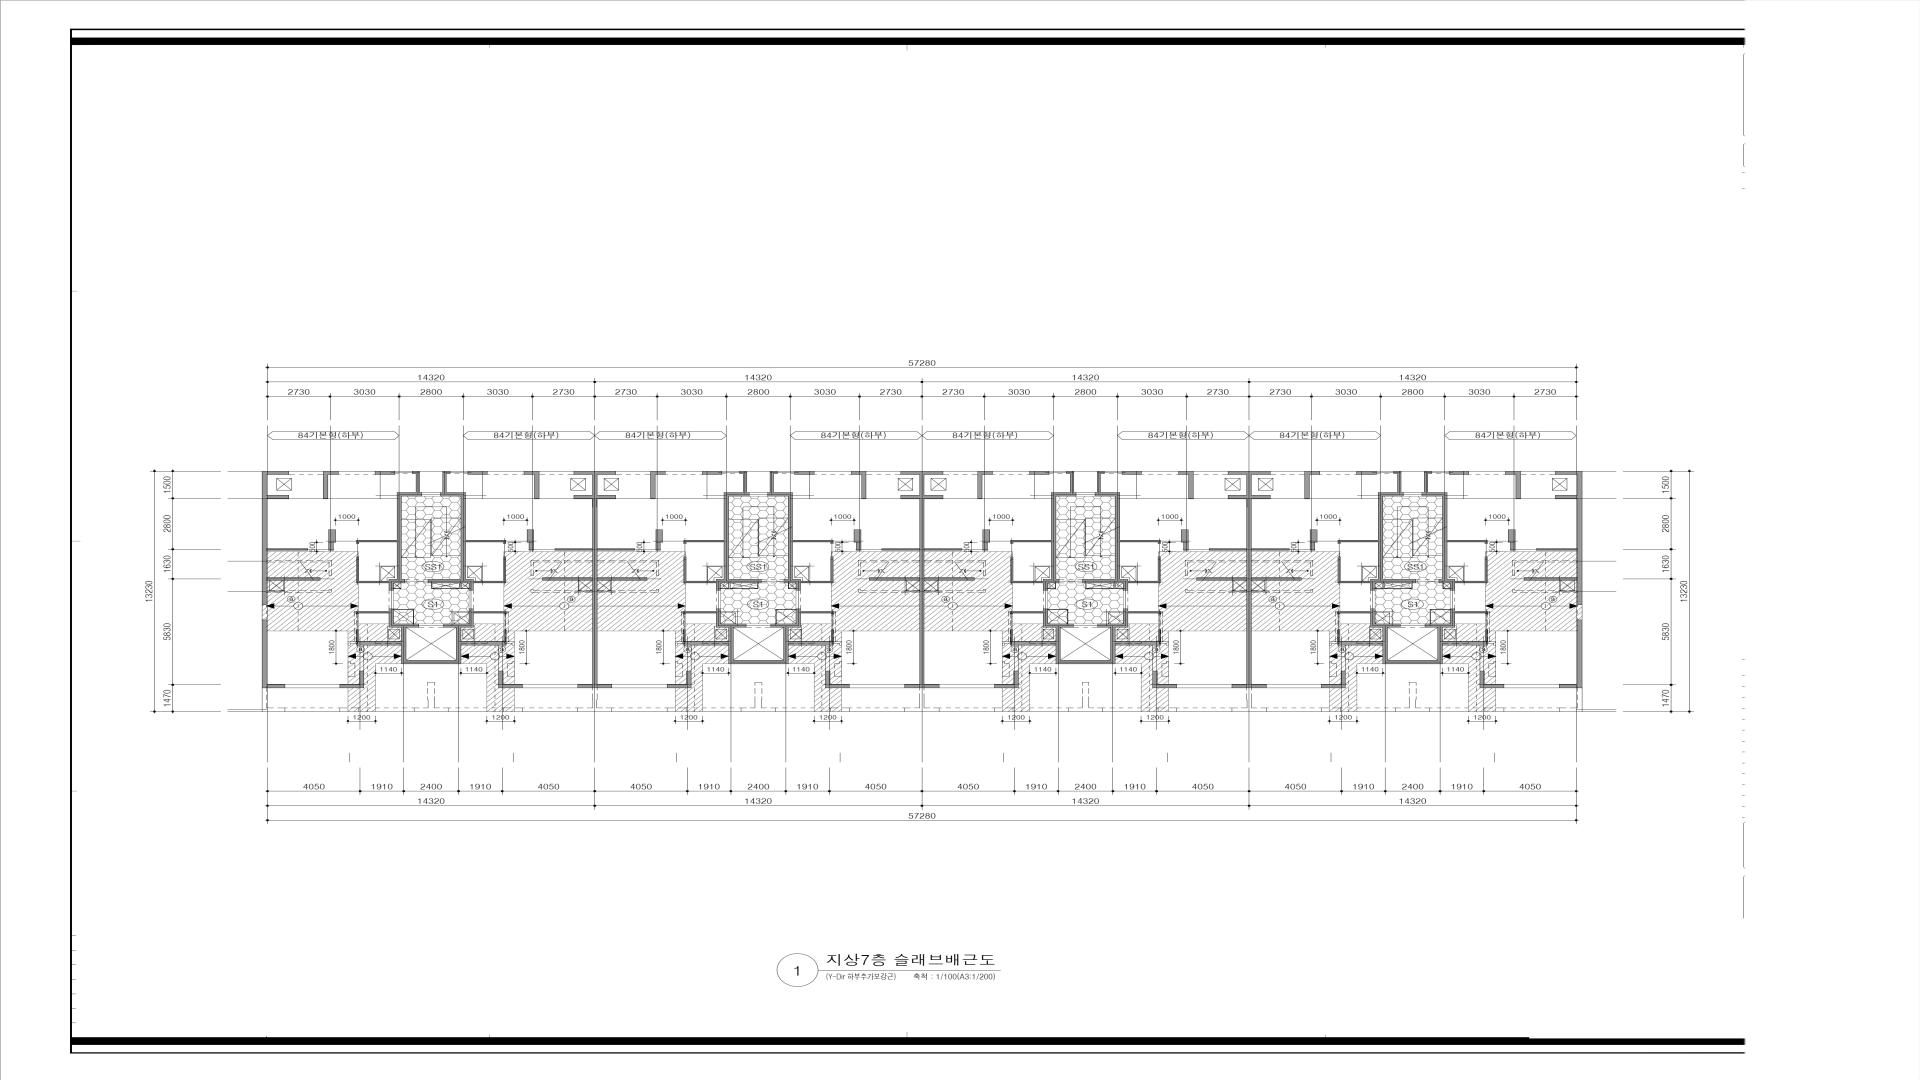wall: (1246, 475, 1251, 688), (919, 475, 924, 688), (592, 475, 597, 684), (261, 471, 266, 605), (1443, 492, 1448, 579), (1577, 475, 1582, 562), (397, 496, 402, 583), (460, 492, 465, 579), (724, 496, 729, 579), (1051, 496, 1056, 579), (1378, 496, 1383, 579), (1577, 620, 1582, 688), (1116, 496, 1120, 583), (789, 496, 793, 579), (1382, 659, 1443, 665), (262, 620, 266, 688), (1060, 659, 1110, 665), (1577, 562, 1582, 605), (465, 539, 506, 545), (356, 539, 397, 545), (733, 661, 783, 665), (406, 661, 456, 665), (728, 628, 733, 665), (783, 628, 789, 665), (1055, 628, 1060, 665), (1110, 628, 1116, 665), (401, 628, 406, 665), (456, 628, 462, 665), (1370, 579, 1416, 583), (1010, 641, 1056, 645), (716, 579, 761, 583), (356, 641, 401, 645), (462, 641, 506, 645), (683, 641, 728, 645), (789, 641, 833, 645), (1116, 641, 1160, 645), (1337, 641, 1382, 645), (1443, 641, 1487, 645), (1437, 628, 1443, 661), (1228, 471, 1271, 475), (574, 471, 616, 475), (740, 471, 748, 492), (770, 471, 778, 492), (901, 471, 943, 475), (1065, 471, 1073, 492), (1097, 471, 1105, 492), (1382, 628, 1387, 659), (427, 579, 469, 583), (683, 539, 724, 543), (793, 539, 833, 543), (1010, 539, 1051, 543), (1120, 539, 1160, 543), (1337, 539, 1378, 543), (1448, 539, 1487, 543), (1188, 471, 1193, 500), (861, 471, 866, 498), (266, 578, 320, 580), (1524, 578, 1577, 580), (443, 471, 450, 492), (578, 684, 612, 688), (1515, 475, 1520, 500), (650, 475, 655, 500), (977, 475, 982, 500), (534, 475, 539, 500), (542, 578, 592, 580), (597, 578, 647, 580), (869, 578, 919, 580), (924, 578, 975, 580), (1196, 578, 1246, 580), (1251, 578, 1302, 580), (1083, 579, 1116, 583), (356, 611, 389, 615), (473, 611, 506, 615), (683, 611, 716, 615), (1010, 611, 1043, 615), (1337, 611, 1370, 615), (1455, 611, 1487, 615), (1097, 624, 1129, 628), (1304, 475, 1309, 498), (1424, 624, 1456, 628), (323, 475, 328, 498), (1129, 611, 1160, 615), (716, 624, 746, 628), (443, 624, 473, 628), (770, 624, 800, 628), (1555, 495, 1577, 500), (266, 495, 289, 500), (1555, 471, 1582, 475), (1507, 529, 1515, 542), (982, 529, 990, 542), (1251, 495, 1271, 500), (1370, 608, 1375, 628), (328, 529, 336, 542), (655, 529, 663, 542), (683, 556, 687, 583), (1337, 556, 1341, 583), (1251, 549, 1290, 551), (724, 492, 749, 496), (1051, 492, 1076, 496), (1048, 624, 1073, 628), (1095, 492, 1120, 496), (1378, 492, 1403, 496), (1375, 624, 1400, 628), (397, 492, 422, 496), (394, 624, 419, 628), (767, 492, 793, 496), (597, 495, 616, 500), (1043, 609, 1048, 628), (1228, 495, 1246, 500), (389, 609, 394, 628), (597, 549, 634, 551), (1153, 670, 1158, 688), (1480, 670, 1485, 688), (800, 611, 836, 613), (853, 530, 861, 542), (1309, 530, 1317, 542), (340, 684, 364, 688), (498, 684, 522, 688), (667, 684, 691, 688), (825, 684, 849, 688), (994, 684, 1018, 688), (266, 471, 289, 475), (1182, 529, 1188, 542), (473, 580, 506, 583), (716, 608, 721, 624), (1124, 608, 1129, 624), (1422, 492, 1443, 496), (375, 471, 396, 475), (1127, 580, 1158, 583), (1455, 580, 1485, 583), (1449, 471, 1469, 475), (702, 471, 721, 475), (795, 471, 815, 475), (1030, 471, 1050, 475), (1122, 471, 1142, 475), (1357, 471, 1377, 475), (440, 492, 460, 496), (468, 471, 488, 475), (527, 530, 534, 542), (1158, 684, 1178, 688), (1321, 684, 1341, 688), (1485, 684, 1505, 688), (795, 609, 800, 624), (1341, 580, 1370, 583), (359, 670, 364, 684), (498, 670, 504, 684), (686, 670, 691, 684), (825, 670, 831, 684), (1424, 473, 1428, 492), (574, 495, 592, 498), (901, 495, 919, 498), (924, 495, 943, 498), (1398, 473, 1402, 492), (1559, 684, 1577, 688), (415, 473, 419, 492), (266, 684, 285, 688), (1341, 670, 1345, 688), (831, 556, 833, 583), (1010, 556, 1013, 583), (1158, 556, 1160, 583), (1485, 556, 1487, 583), (356, 556, 359, 582), (650, 471, 666, 475), (785, 579, 800, 583), (977, 471, 993, 475), (1043, 579, 1059, 583), (1304, 471, 1320, 475), (1439, 579, 1455, 583), (323, 471, 339, 475), (504, 556, 506, 580), (524, 471, 539, 475), (1251, 684, 1267, 688), (1506, 471, 1520, 475), (1451, 609, 1455, 624), (469, 609, 473, 624), (905, 684, 919, 688), (924, 684, 939, 688), (1014, 670, 1018, 684), (1232, 684, 1246, 688), (266, 549, 309, 550), (1536, 549, 1577, 550), (924, 549, 963, 550), (529, 542, 534, 551), (555, 549, 592, 550), (856, 542, 861, 551), (882, 549, 919, 550), (1209, 549, 1246, 550), (469, 579, 473, 591), (356, 582, 389, 583), (716, 583, 721, 591), (795, 583, 800, 591), (851, 471, 861, 475), (1043, 583, 1048, 591), (1124, 583, 1129, 591), (1370, 583, 1375, 591), (1449, 583, 1455, 591), (1510, 542, 1515, 550), (389, 583, 394, 591), (328, 542, 334, 550), (655, 542, 661, 550), (982, 542, 988, 550), (1183, 542, 1188, 550), (1309, 542, 1315, 550), (686, 582, 716, 583), (800, 582, 831, 583), (1013, 582, 1043, 583), (1120, 579, 1129, 583), (1179, 471, 1188, 475), (389, 579, 397, 583), (356, 629, 359, 641), (504, 629, 506, 641), (683, 629, 686, 641), (831, 629, 833, 641), (1010, 629, 1013, 641), (1158, 629, 1160, 641), (1337, 629, 1340, 641), (1485, 629, 1487, 641), (1424, 471, 1432, 473), (1394, 471, 1402, 473), (411, 471, 419, 473), (401, 579, 405, 583)
